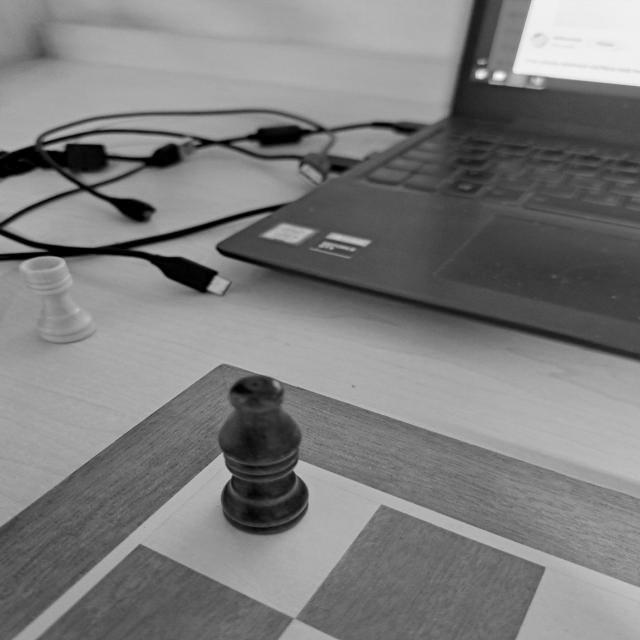chess-table-corners: (181, 430, 333, 490)
